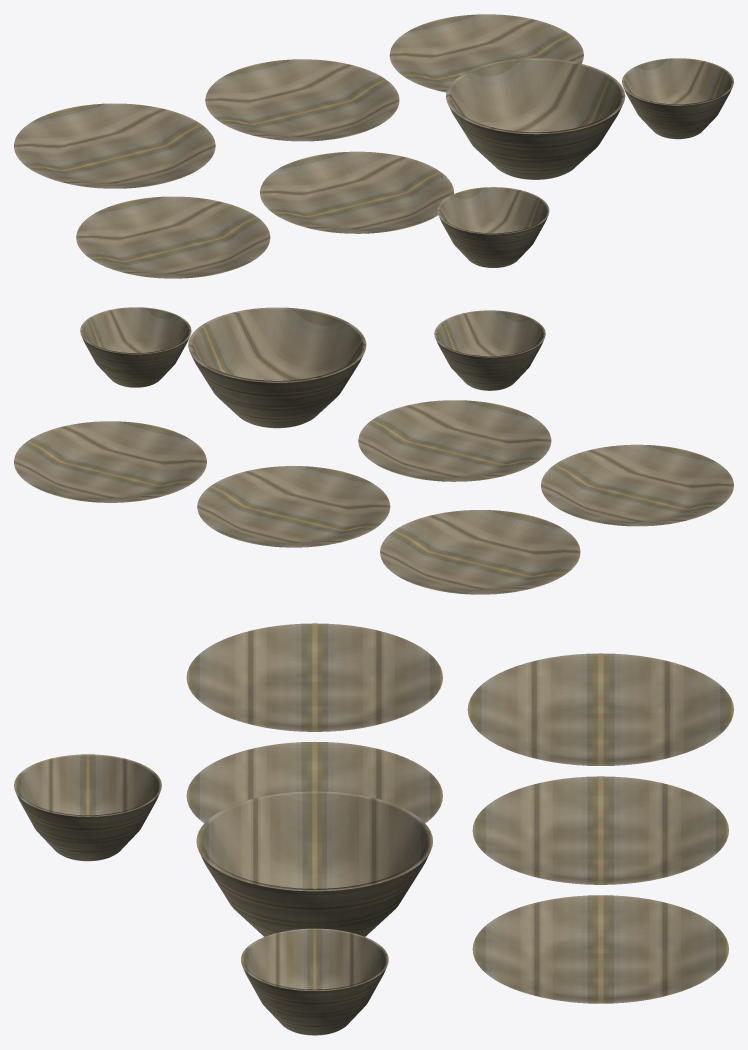
Rendered from RAY-05.glb.
The picture shows the model from 3 angles, top to bottom: view 1: azimuth 30°, elevation 25°; view 2: azimuth 150°, elevation 25°; view 3: azimuth 270°, elevation 25°; orthographic projection. The views are drawn at different scales.
Size of the model in its own units: 0.985 by 0.1 by 0.73.
16 materials, 16 textured.
